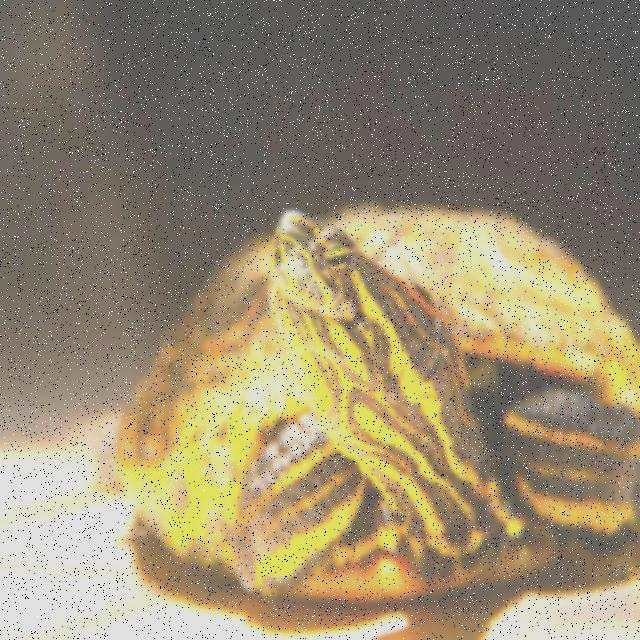tortoise: (106, 195, 640, 612)
